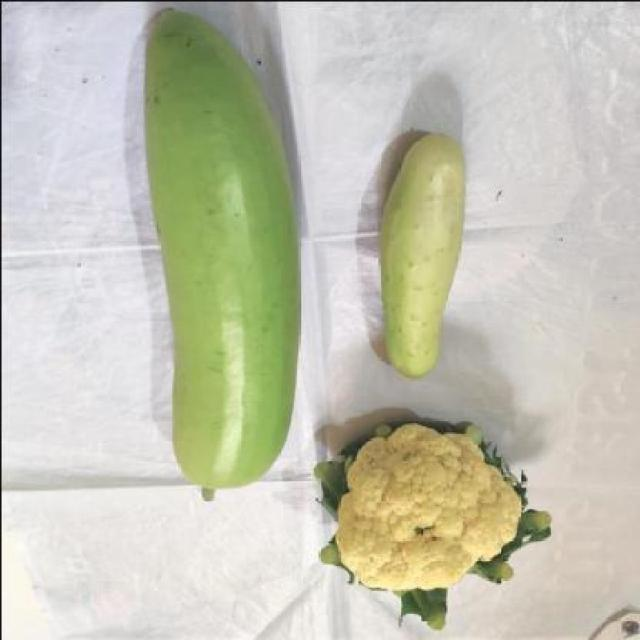Calabash: (121, 6, 306, 503)
Cauliflower: (316, 420, 562, 632)
cucumber: (368, 115, 480, 392)
